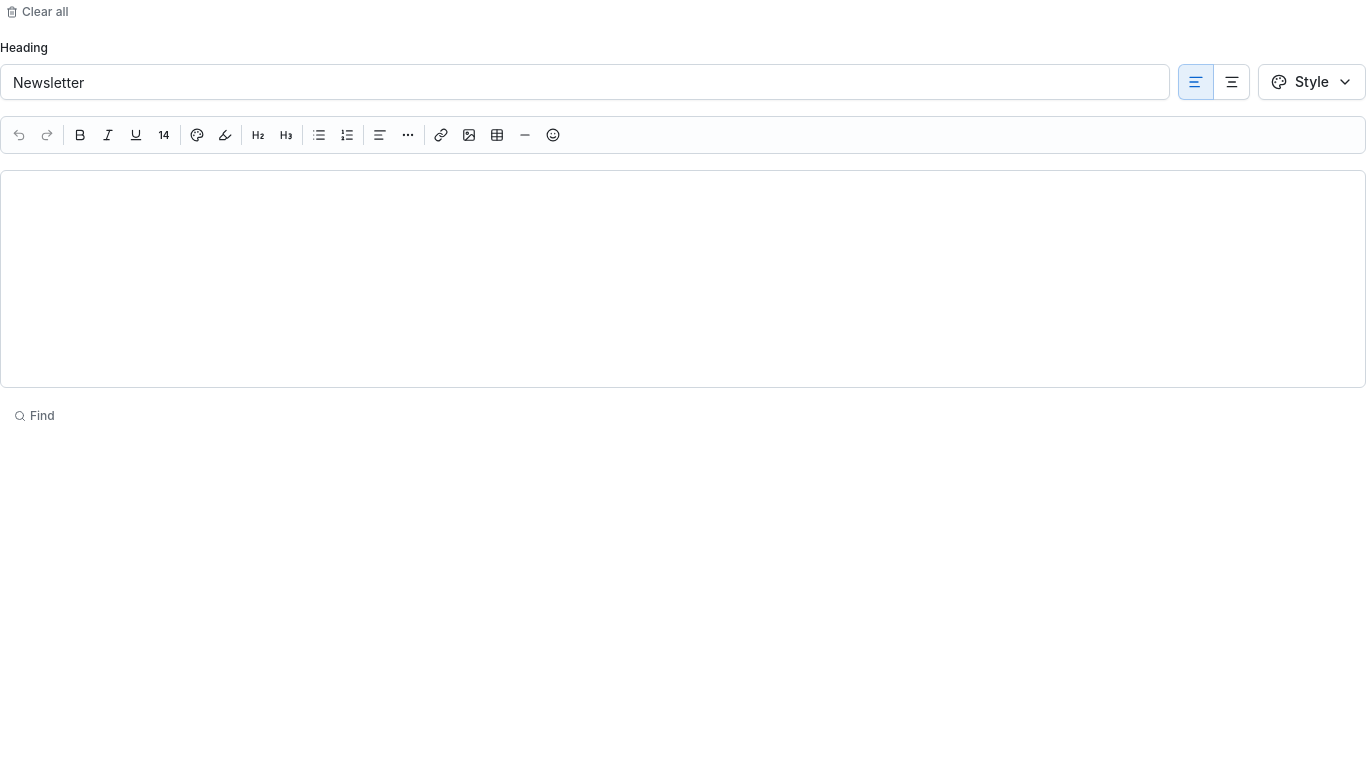
Test: NewsletterEditor › renders position toggle with default Above % and Below %
Step 1. Click the button with test id "newsletter-style-btn" → [1312, 82], box [1258,64,1365,100]
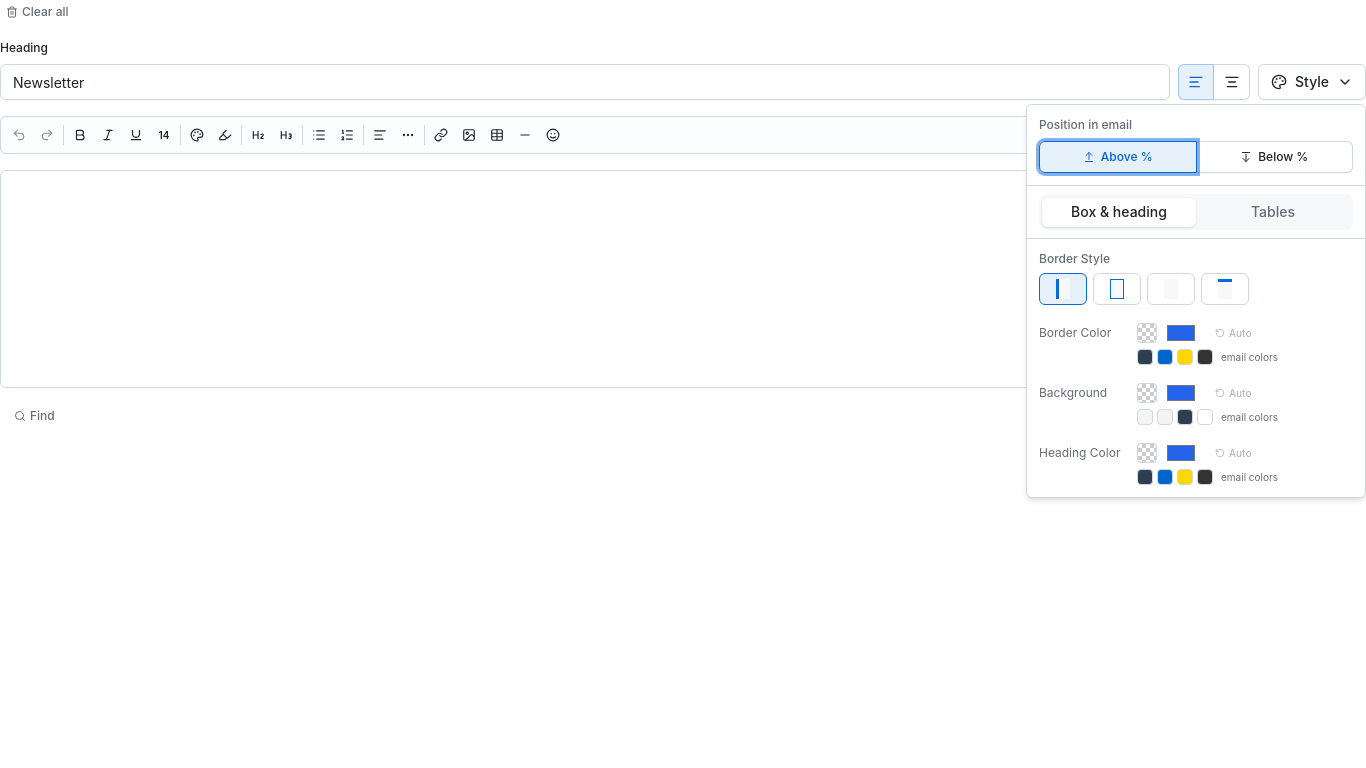
Check: the button named "Position: Above %" is shown, box [1039,141,1196,173]
Check: the button named "Position: Below %" is shown, box [1196,141,1353,173]
